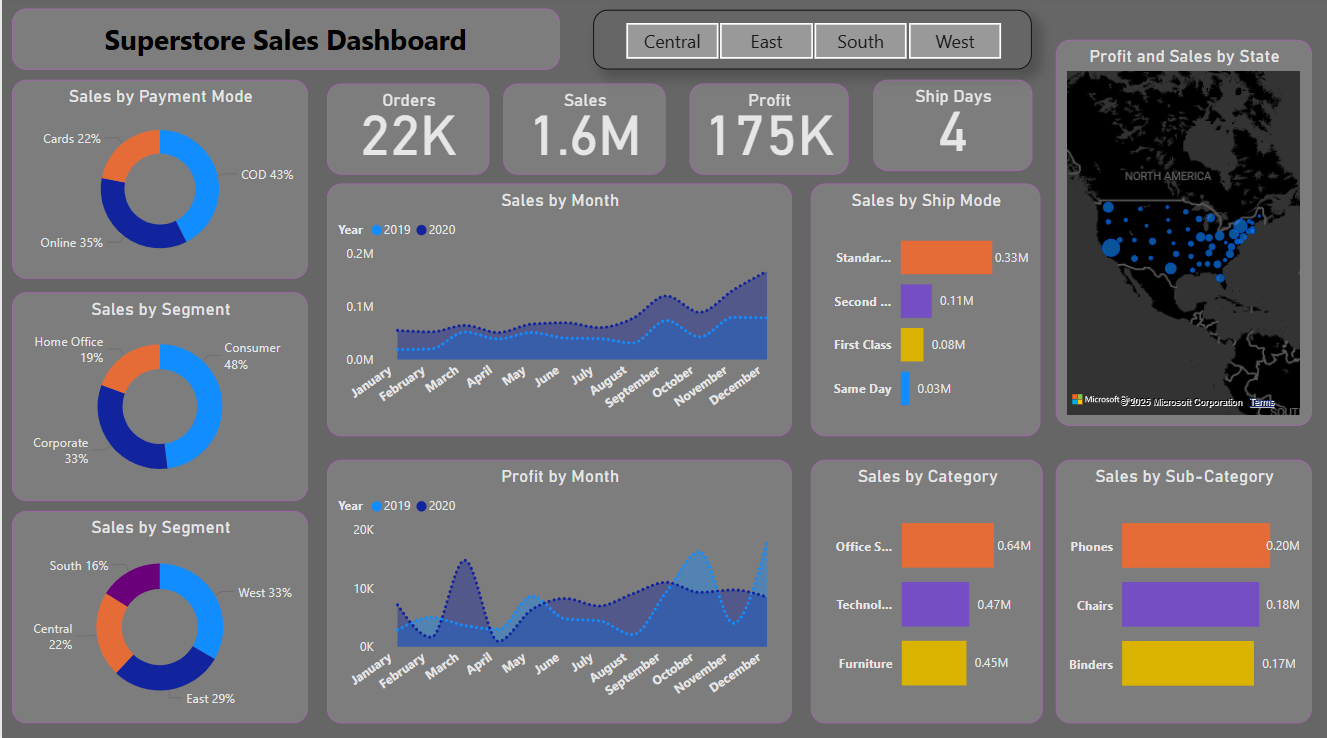

The page's visual inventory and layout, read from the dashboard file:
{"tool":"powerbi","page":{"name":"Sales Dashboard","canvas":[1280,720],"ordinal":0},"visuals":[{"type":"clusteredBarChart","title":"Sales by Category","fields":{"Category":["SuperStore_Sales_Dataset.Category"],"Y":["Sum(SuperStore_Sales_Dataset.Sales)"]},"box":[780.6,447.6,224.4,254.6],"z":0},{"type":"clusteredBarChart","title":"Sales by Sub-Category","fields":{"Category":["SuperStore_Sales_Dataset.Sub-Category"],"Y":["Sum(SuperStore_Sales_Dataset.Sales)"]},"box":[1017,447.6,247.3,254.6],"z":1000},{"type":"clusteredBarChart","title":"Sales by Ship Mode","fields":{"Category":["SuperStore_Sales_Dataset.Ship Mode"],"Y":["Sum(SuperStore_Sales_Dataset.Sales)"]},"box":[780.6,181,222,243.7],"z":2000},{"type":"areaChart","title":"Sales by Month","fields":{"Y":["Sum(SuperStore_Sales_Dataset.Sales)"],"Category":["SuperStore_Sales_Dataset.Order Date.Variation.Date Hierarchy.Month","SuperStore_Sales_Dataset.Order Date.Variation.Date Hierarchy.Day"],"Series":["SuperStore_Sales_Dataset.Order Date.Variation.Date Hierarchy.Year"]},"box":[313.7,181,448.8,243.7],"z":3000},{"type":"areaChart","title":"Profit by Month","fields":{"Category":["SuperStore_Sales_Dataset.Order Date.Variation.Date Hierarchy.Month"],"Series":["SuperStore_Sales_Dataset.Order Date.Variation.Date Hierarchy.Year"],"Y":["Sum(SuperStore_Sales_Dataset.Profit)"]},"box":[313.7,447.6,448.8,254.6],"z":4000},{"type":"map","title":"Profit and Sales by State","fields":{"Category":["SuperStore_Sales_Dataset.State"],"Size":["Sum(SuperStore_Sales_Dataset.Sales)"]},"box":[1017,42.2,247.3,372.8],"z":5000},{"type":"donutChart","title":"Sales by Segment","fields":{"Category":["SuperStore_Sales_Dataset.Segment"],"Y":["Sum(SuperStore_Sales_Dataset.Sales)"]},"box":[9.7,285.9,285.9,201.5],"z":6000},{"type":"donutChart","title":"Sales by Payment Mode","fields":{"Y":["Sum(SuperStore_Sales_Dataset.Sales)"],"Category":["SuperStore_Sales_Dataset.Payment Mode"]},"box":[9.7,80.8,285.9,191.8],"z":7000},{"type":"slicer","fields":{"Values":["SuperStore_Sales_Dataset.Region"]},"box":[570.6,13.3,423.5,57.9],"z":8000},{"type":"textbox","box":[9.7,12.1,528.4,59.1],"z":9000},{"type":"card","title":"Sales","fields":{"Values":["Sum(SuperStore_Sales_Dataset.Sales)"]},"box":[483.8,84.5,156.8,88.1],"z":10000},{"type":"card","title":"Orders","fields":{"Values":["Sum(SuperStore_Sales_Dataset.Quantity)"]},"box":[313.7,84.5,156.8,88.1],"z":11000},{"type":"card","title":"Profit","fields":{"Values":["Sum(SuperStore_Sales_Dataset.Profit)"]},"box":[663.5,84.5,153.2,88.1],"z":12000},{"type":"card","title":"Ship Days","fields":{"Values":["Avg(SuperStore_Sales_Dataset.AvgDelivary)"]},"box":[840.9,80.8,153.2,88.1],"z":13000},{"type":"donutChart","title":"Sales by Segment","fields":{"Y":["Sum(SuperStore_Sales_Dataset.Sales)"],"Category":["SuperStore_Sales_Dataset.Region"]},"box":[9.7,497.1,285.9,205.1],"z":14000}]}

Visuals, with their boxes in screenshot pixels (x1, y1, x2, y2), scaled from the page's 1280x720 canvas onto the 1327x738 screenshot:
"Sales by Category" clusteredBarChart: [left=809, top=459, right=1042, bottom=720]
"Sales by Sub-Category" clusteredBarChart: [left=1054, top=459, right=1311, bottom=720]
"Sales by Ship Mode" clusteredBarChart: [left=809, top=186, right=1039, bottom=435]
"Sales by Month" areaChart: [left=325, top=186, right=790, bottom=435]
"Profit by Month" areaChart: [left=325, top=459, right=790, bottom=720]
"Profit and Sales by State" map: [left=1054, top=43, right=1311, bottom=425]
"Sales by Segment" donutChart: [left=10, top=293, right=306, bottom=500]
"Sales by Payment Mode" donutChart: [left=10, top=83, right=306, bottom=279]
slicer - SuperStore_Sales_Dataset.Region: [left=592, top=14, right=1031, bottom=73]
textbox: [left=10, top=12, right=558, bottom=73]
"Sales" card: [left=502, top=87, right=664, bottom=177]
"Orders" card: [left=325, top=87, right=488, bottom=177]
"Profit" card: [left=688, top=87, right=847, bottom=177]
"Ship Days" card: [left=872, top=83, right=1031, bottom=173]
"Sales by Segment" donutChart: [left=10, top=510, right=306, bottom=720]
